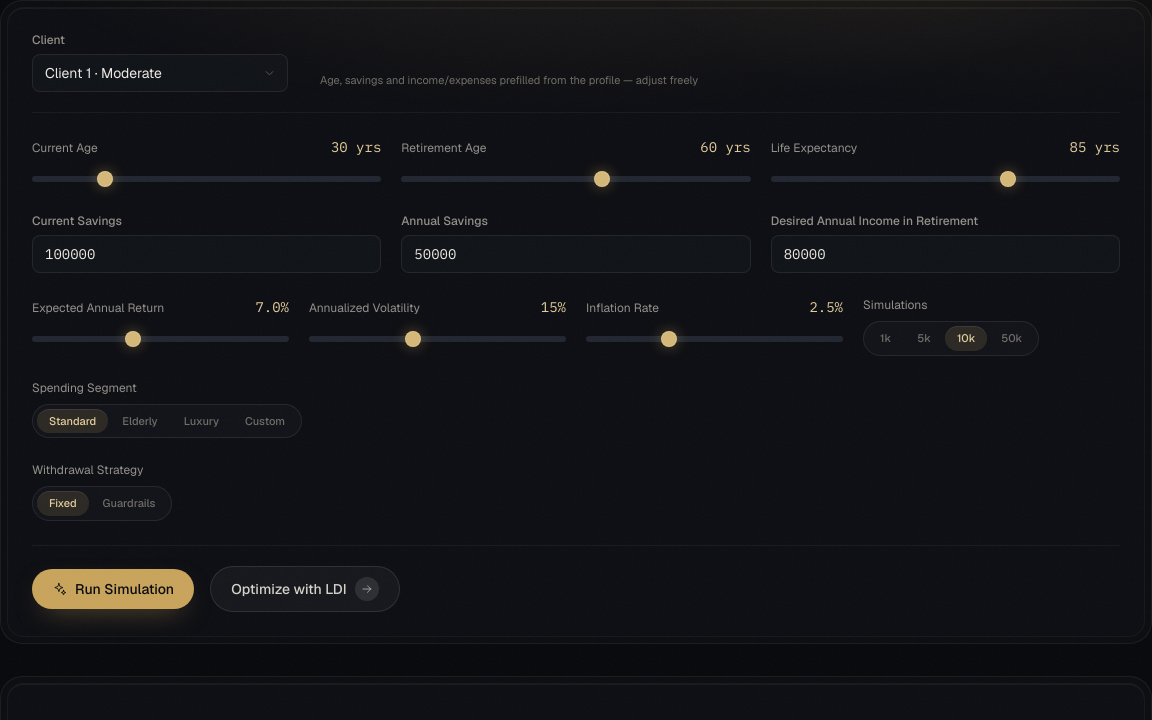
Scenario: RetirementWorkspace form behavior › shows the custom inflation slider only for the custom preset
expect the text "Distribution-Phase Inflation" is not shown: met
Click the button "Elderly": [140, 421] box [110, 408, 170, 433]
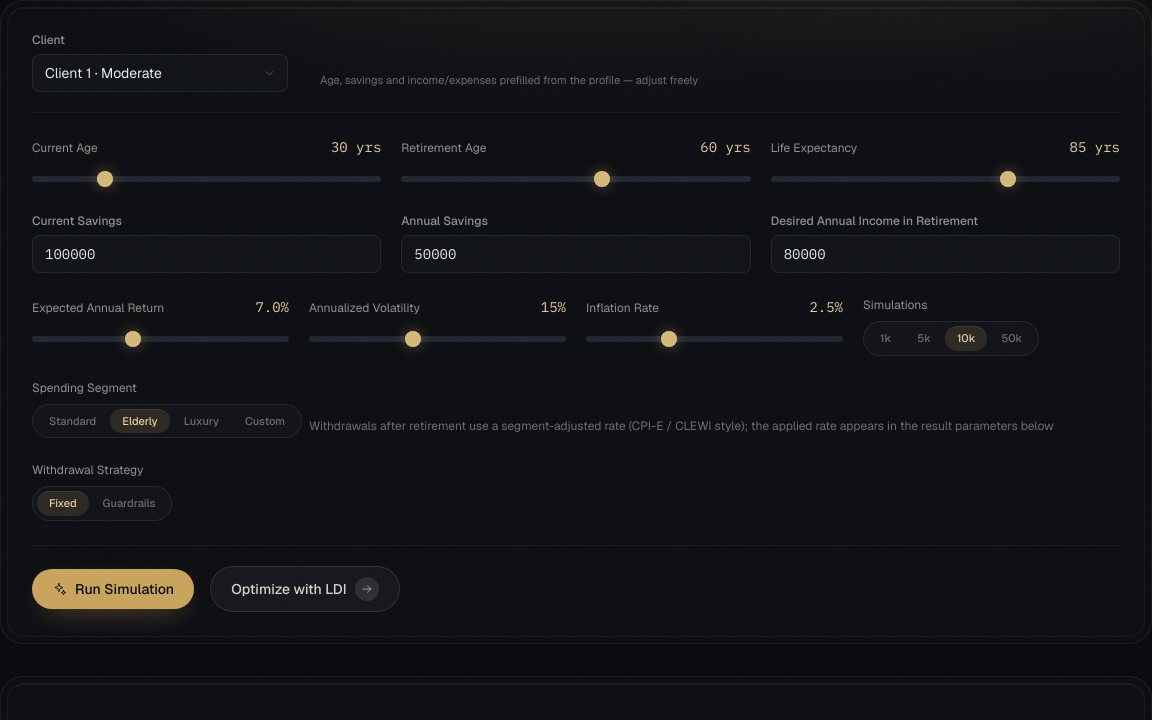
expect the text "Distribution-Phase Inflation" is not shown: met
expect the text "segment-adjusted rate" is shown: met, box [309, 418, 1054, 434]
Click the button "Custom": [265, 421] box [233, 408, 297, 433]
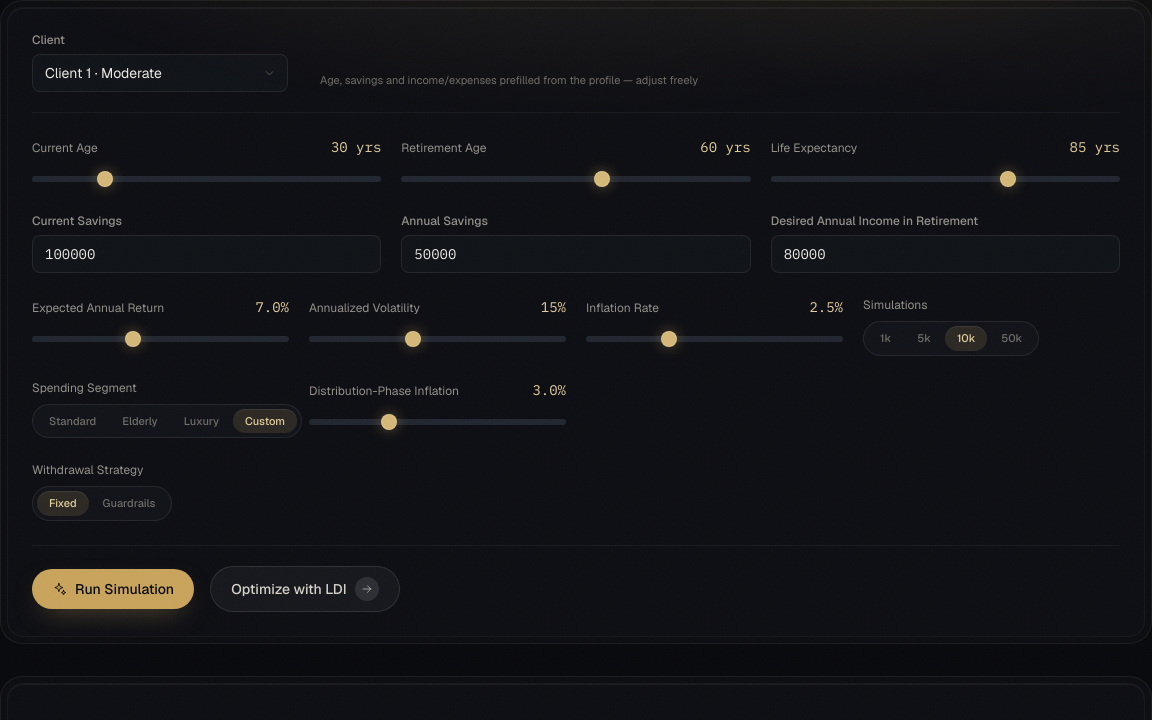
expect the text "Distribution-Phase Inflation" is shown: met, box [309, 382, 459, 398]
